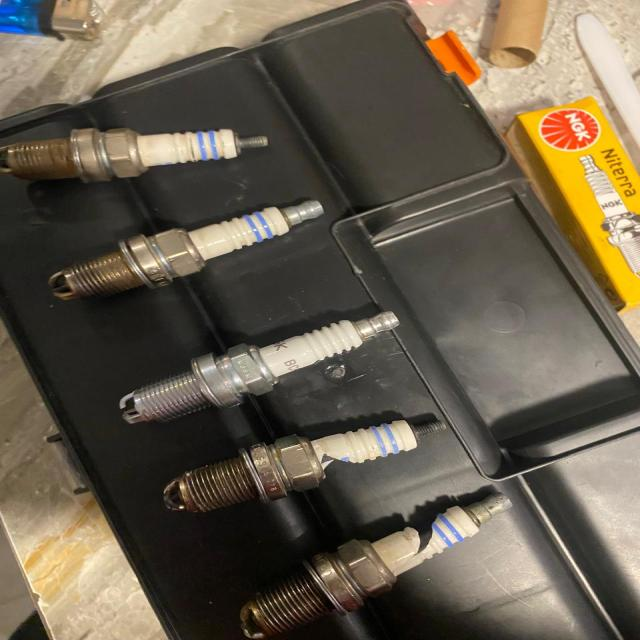damaged_spark-plug: (221, 476, 530, 640), (147, 405, 458, 525)
spark-plug: (34, 170, 340, 311), (101, 307, 410, 433), (1, 121, 282, 193)
